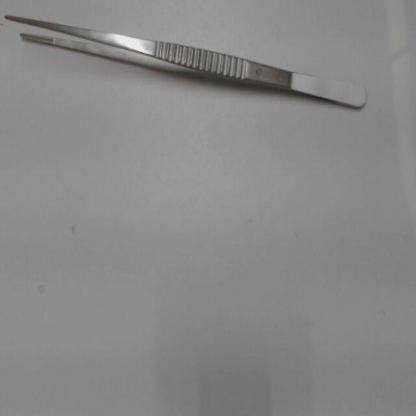DeBakey Dissector: (1, 4, 378, 131)
